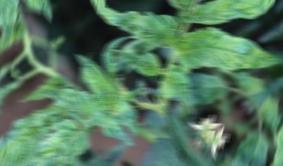Tomato leaf mosaic virus: (167, 0, 283, 116), (85, 0, 182, 78), (180, 0, 272, 62), (17, 113, 105, 166), (63, 44, 126, 114), (158, 64, 211, 122), (168, 0, 246, 17)
